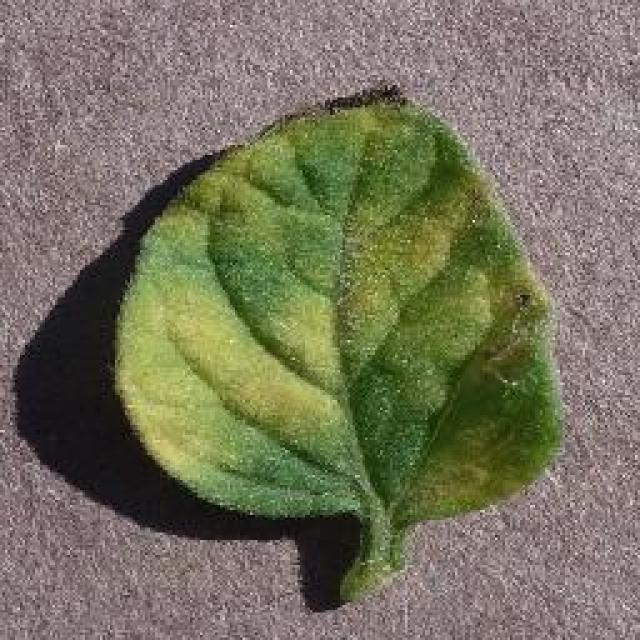Tom_Leaf_Mold: (205, 155, 515, 460)
